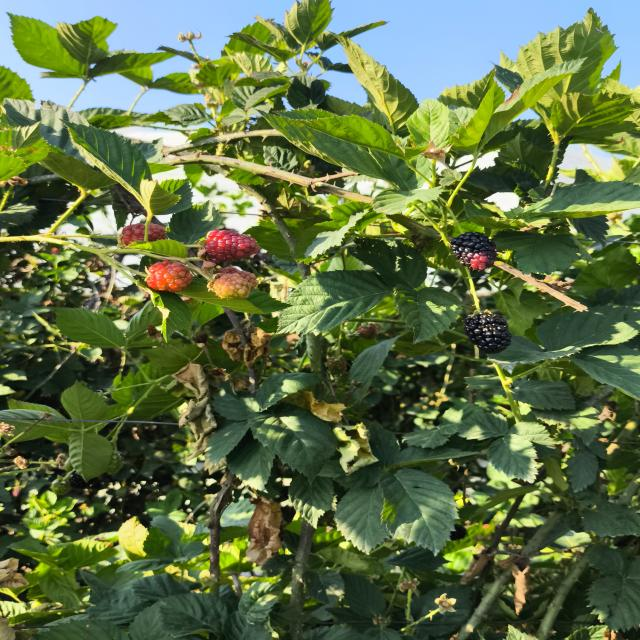maduro: (464, 312, 511, 354)
marron: (451, 232, 496, 270)
naranja: (204, 229, 260, 263), (207, 267, 257, 299), (146, 261, 193, 292), (122, 223, 145, 246), (148, 224, 166, 242)
